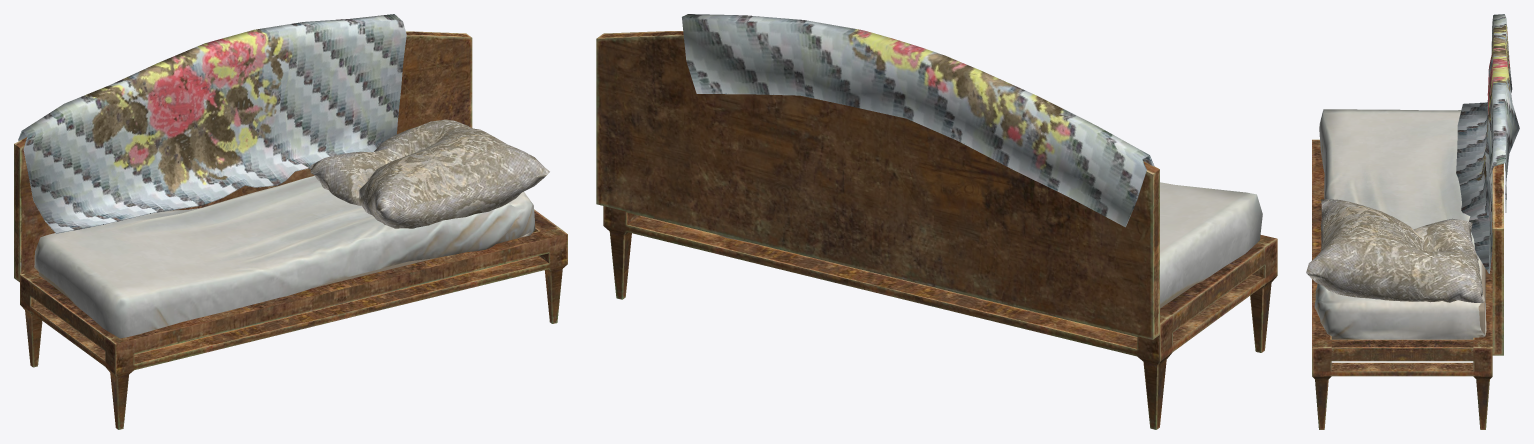
File: vintage_day_bed.glb
The picture shows the model from 3 angles, left to right: view 1: azimuth 30°, elevation 25°; view 2: azimuth 150°, elevation 25°; view 3: azimuth 270°, elevation 25°; orthographic projection. The views are drawn at different scales.
Visible parts, largest first — view 1: vintage_day_bed; view 2: vintage_day_bed; view 3: vintage_day_bed.
Boxes of the visible parts, x1,y1,x2,y2 form: vintage_day_bed: (14, 14, 567, 429); vintage_day_bed: (596, 14, 1277, 429); vintage_day_bed: (1306, 14, 1519, 429).
Size of the model in its own units: 1.97 by 1.13 by 0.8548.
1 material, 1 textured.
